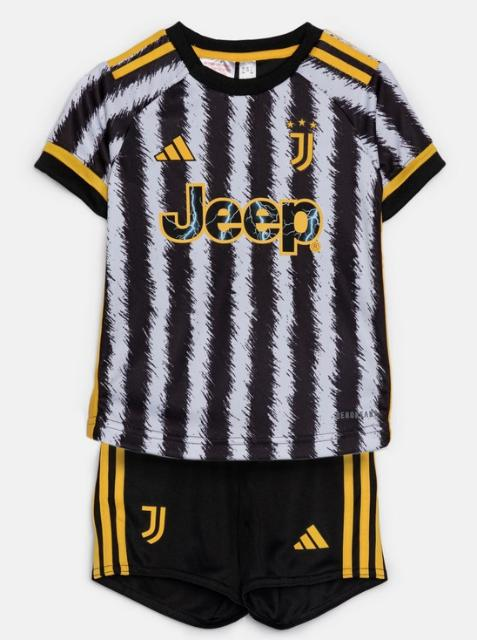Adidas: (154, 131, 202, 171), (290, 516, 334, 558)
